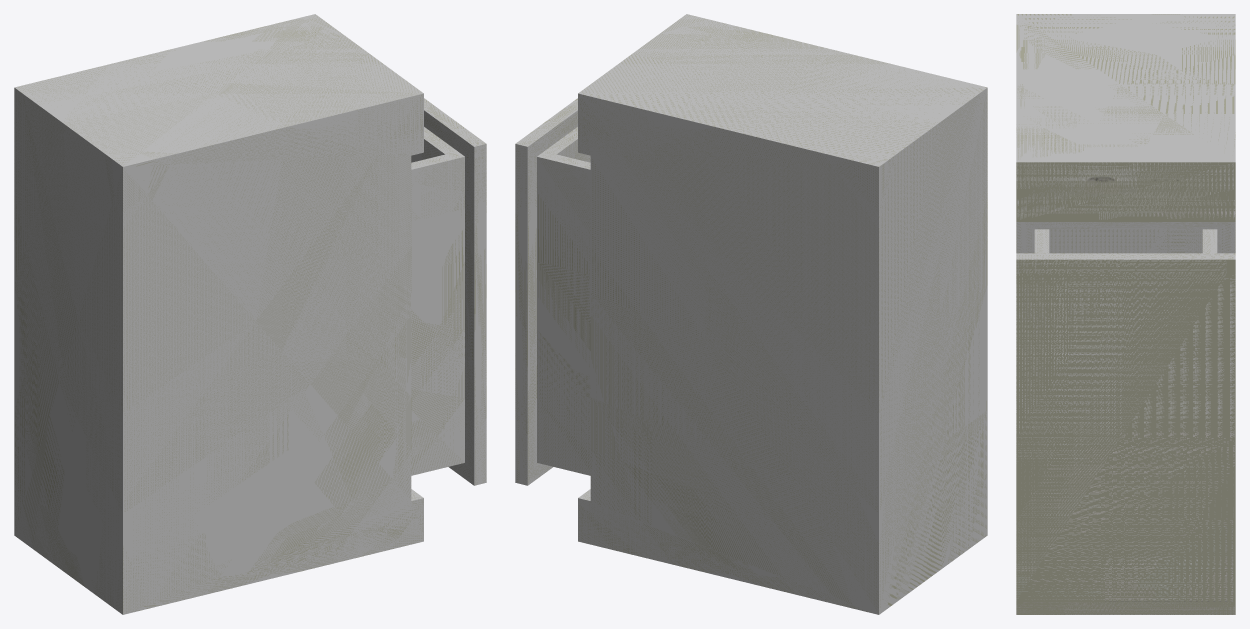
3 views of the same model, side by side, from view 1: azimuth 30°, elevation 25°; view 2: azimuth 150°, elevation 25°; view 3: azimuth 270°, elevation 25° (orthographic).
Parts seen in each view (by area): view 1: mesh2_mesh2-geometry, mesh1_mesh1-geometry; view 2: mesh2_mesh2-geometry, mesh1_mesh1-geometry; view 3: mesh1_mesh1-geometry, mesh2_mesh2-geometry.
Boxes of the visible parts, x1,y1,x2,y2 form: mesh2_mesh2-geometry: (14, 14, 423, 614); mesh1_mesh1-geometry: (411, 98, 486, 485); mesh2_mesh2-geometry: (578, 14, 987, 614); mesh1_mesh1-geometry: (515, 98, 590, 485); mesh1_mesh1-geometry: (1016, 229, 1235, 601); mesh2_mesh2-geometry: (1016, 14, 1235, 614).
Size of the model in its own units: 0.614 by 0.7226 by 0.3176.
3 materials, 1 textured.
